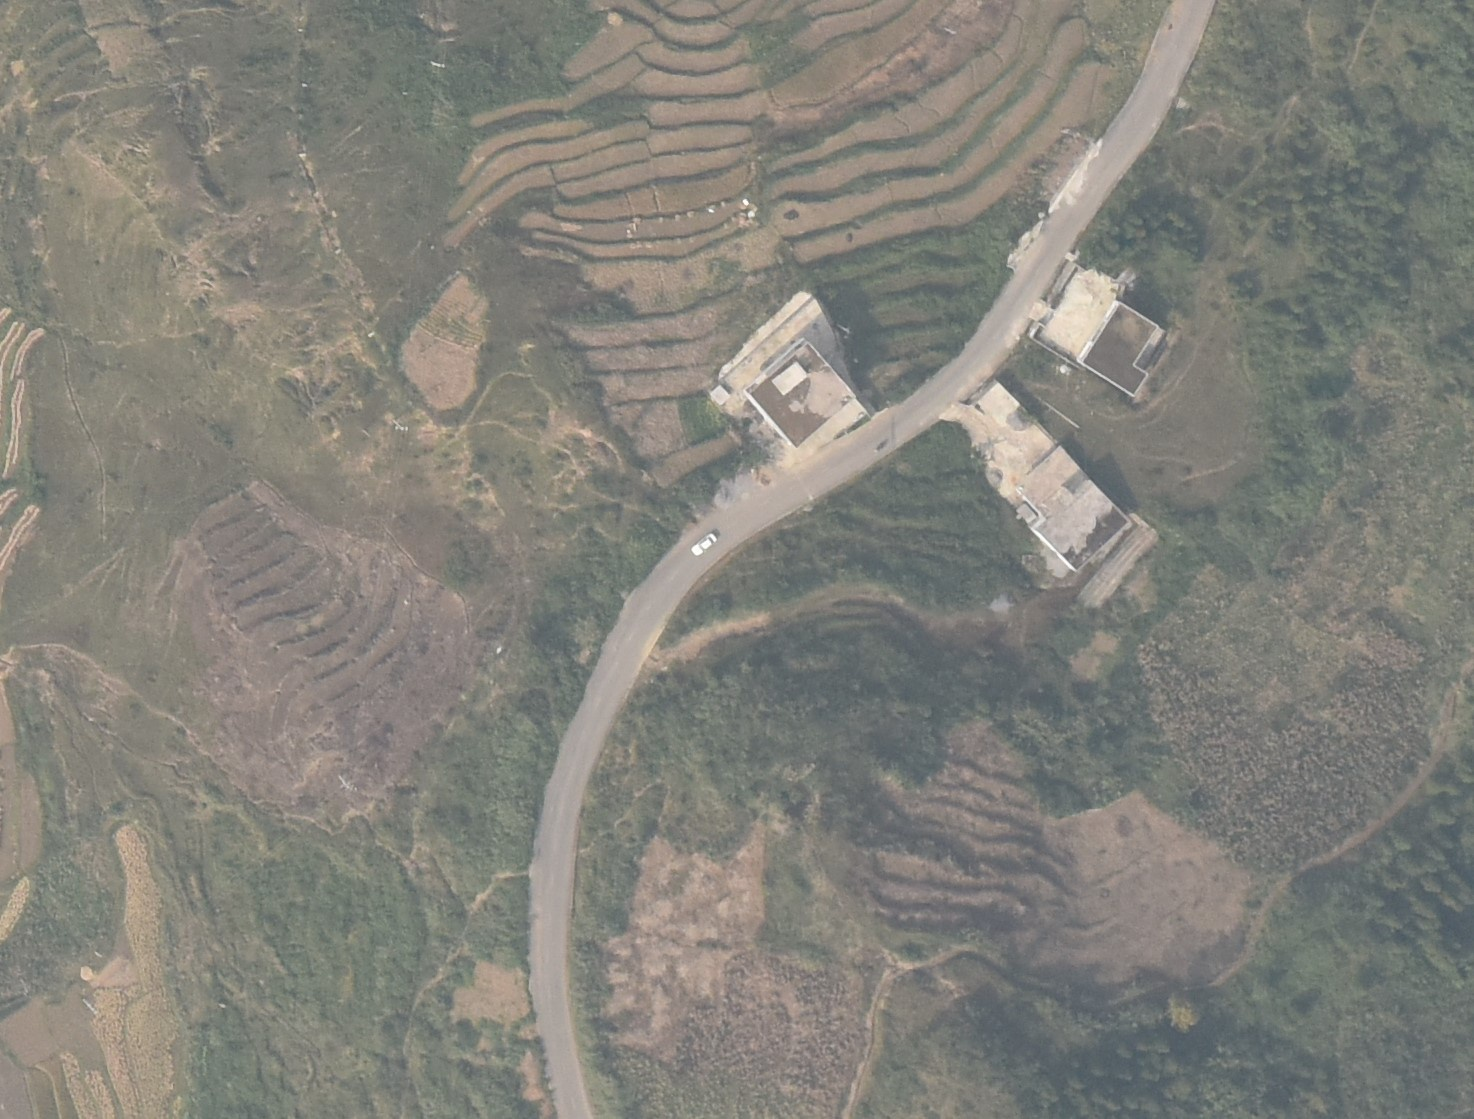building: (1016, 446, 1130, 578), (743, 337, 853, 440), (1079, 301, 1160, 398)
cable-tower: (389, 416, 408, 432), (338, 775, 355, 792), (430, 60, 445, 67)
vehicle: (690, 531, 718, 556)
